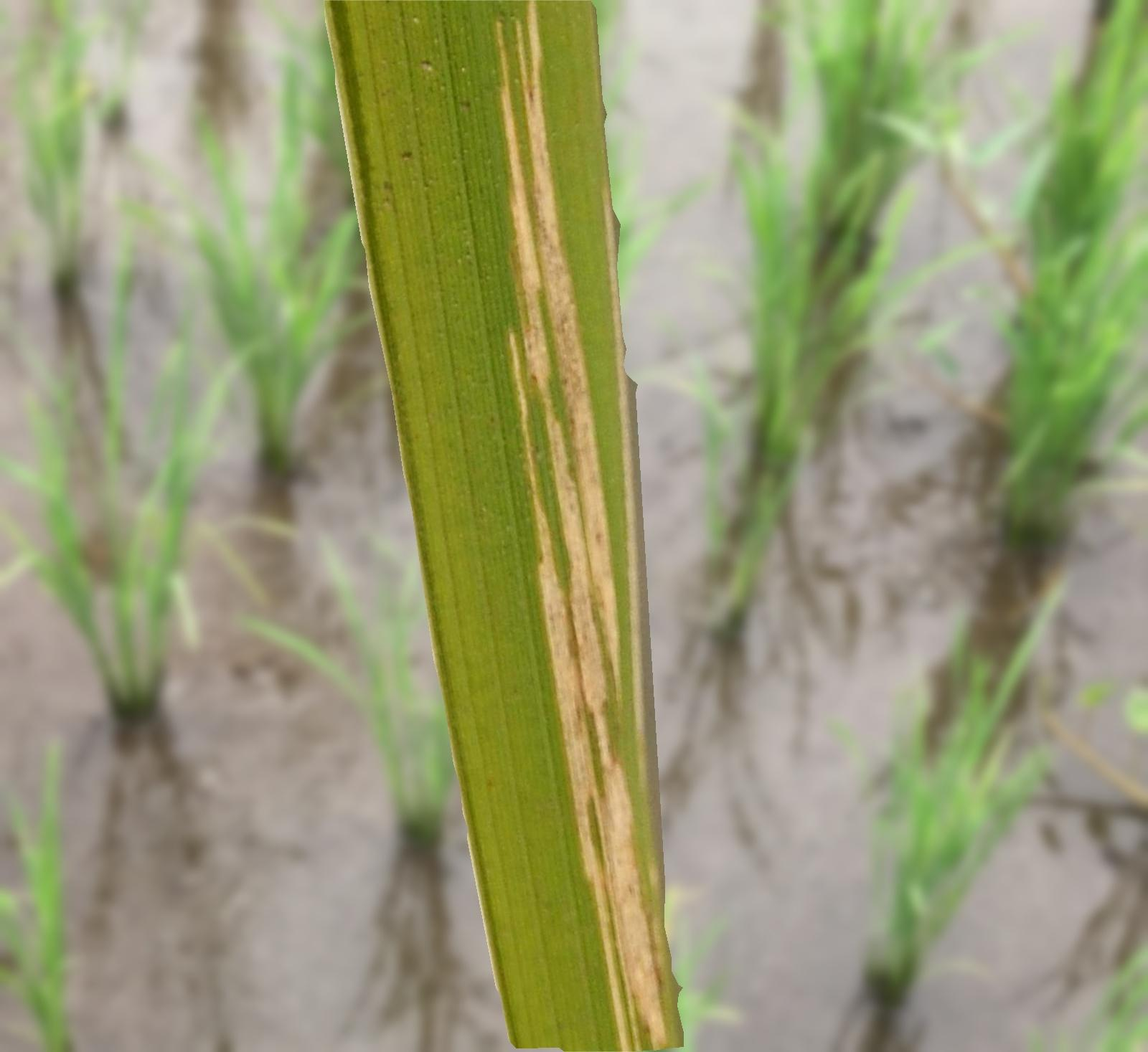BLS: (496, 17, 673, 1051), (515, 0, 625, 713), (602, 167, 647, 790)
LEAF: (324, 0, 683, 1051)
